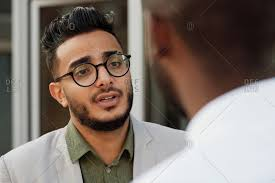middle_eastern_male: (46, 24, 136, 129)
